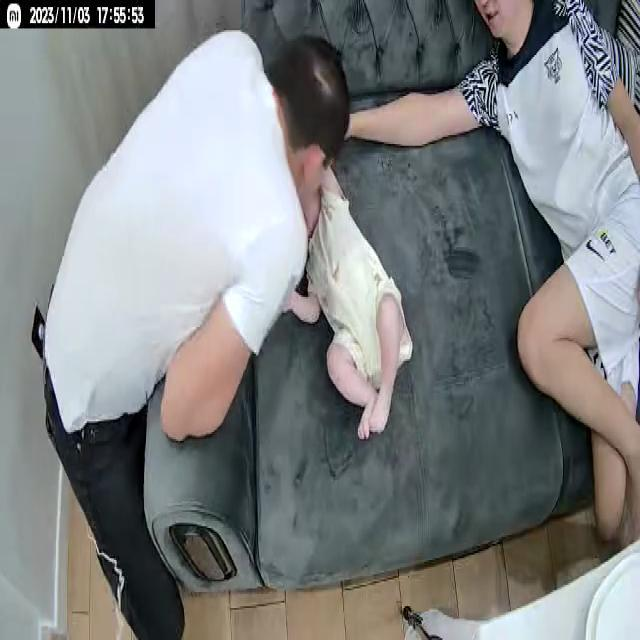baby: (288, 161, 417, 440)
